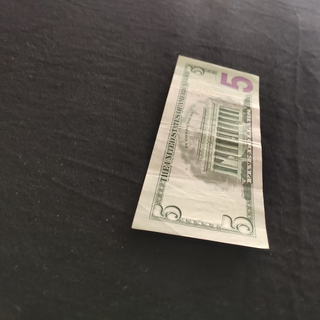5USDBack: (130, 54, 270, 250)
